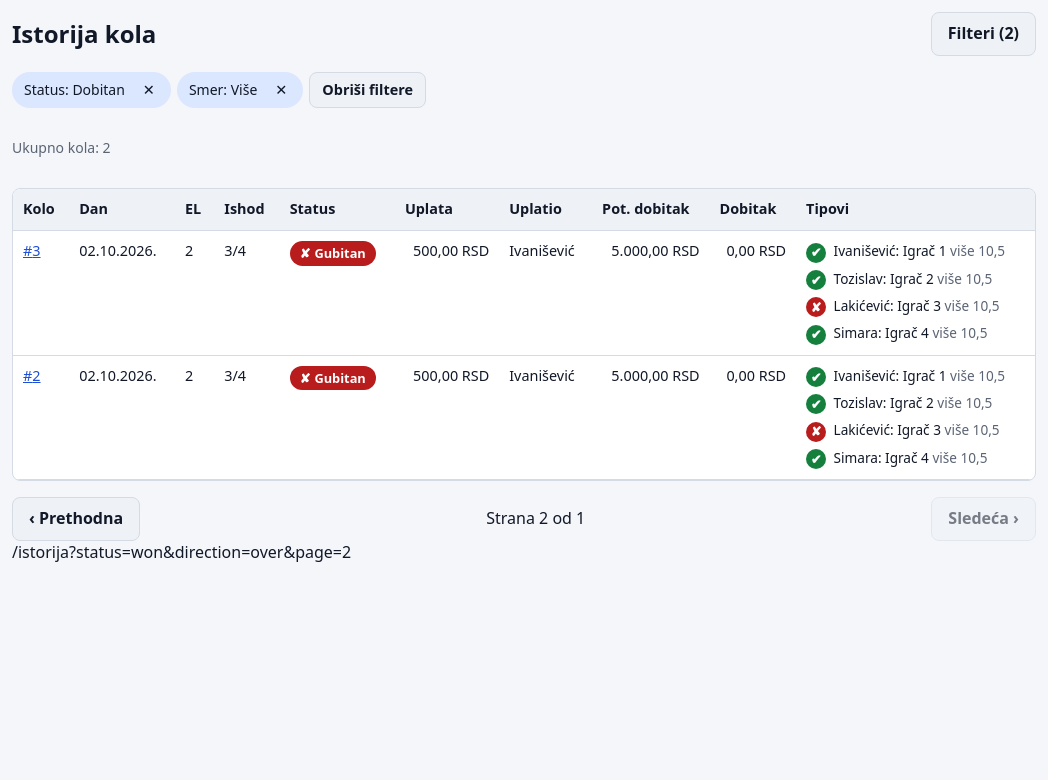
Test: HistoryPage filters ↔ URL › removing a chip updates the URL and refetches without that filter
expect the text "Status: Dobitan" is shown: met, box [24,80,125,100]
Click the button "✕" next to "Status: Dobitan": (149, 90) [127,72,171,108]
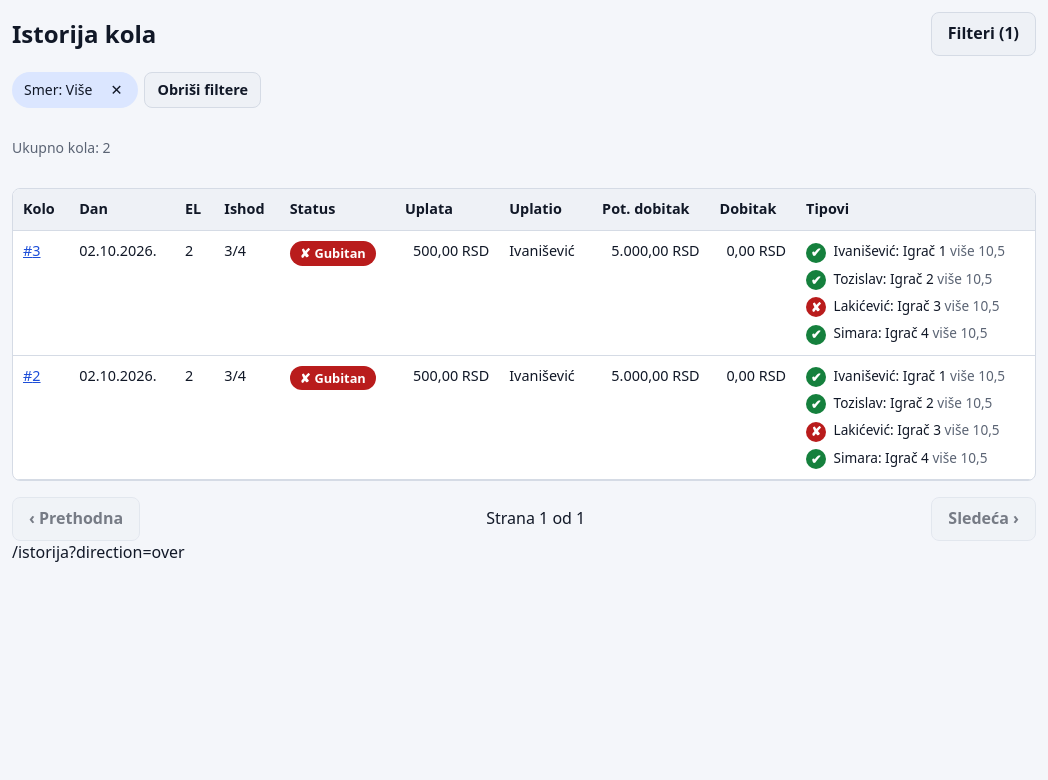
expect the text with test id "location" reads "/istorija?direction=over": met, box [12,541,185,563]
